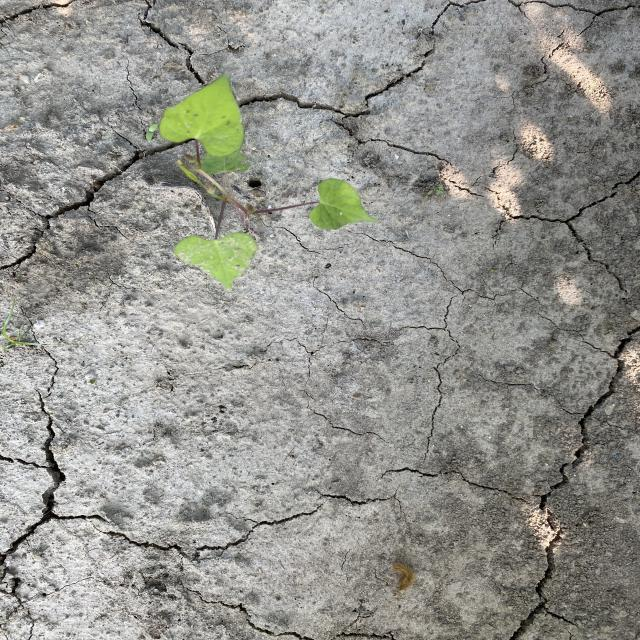MorningGlory: (156, 67, 384, 293)
